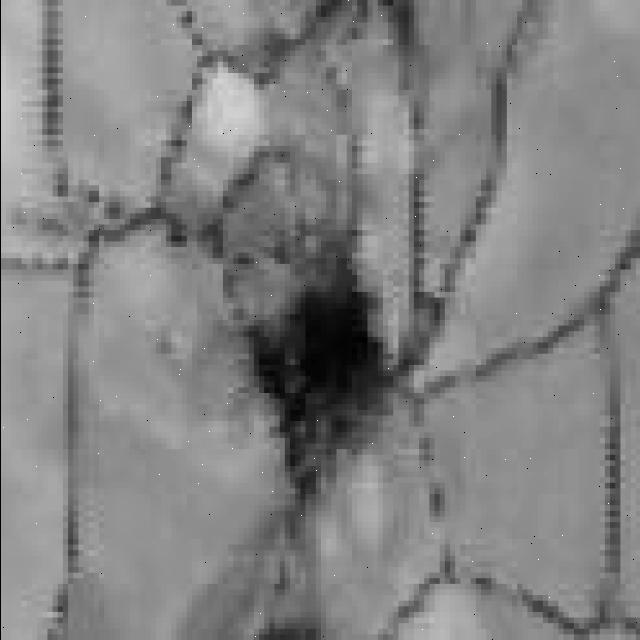good_void: (247, 233, 399, 509)
